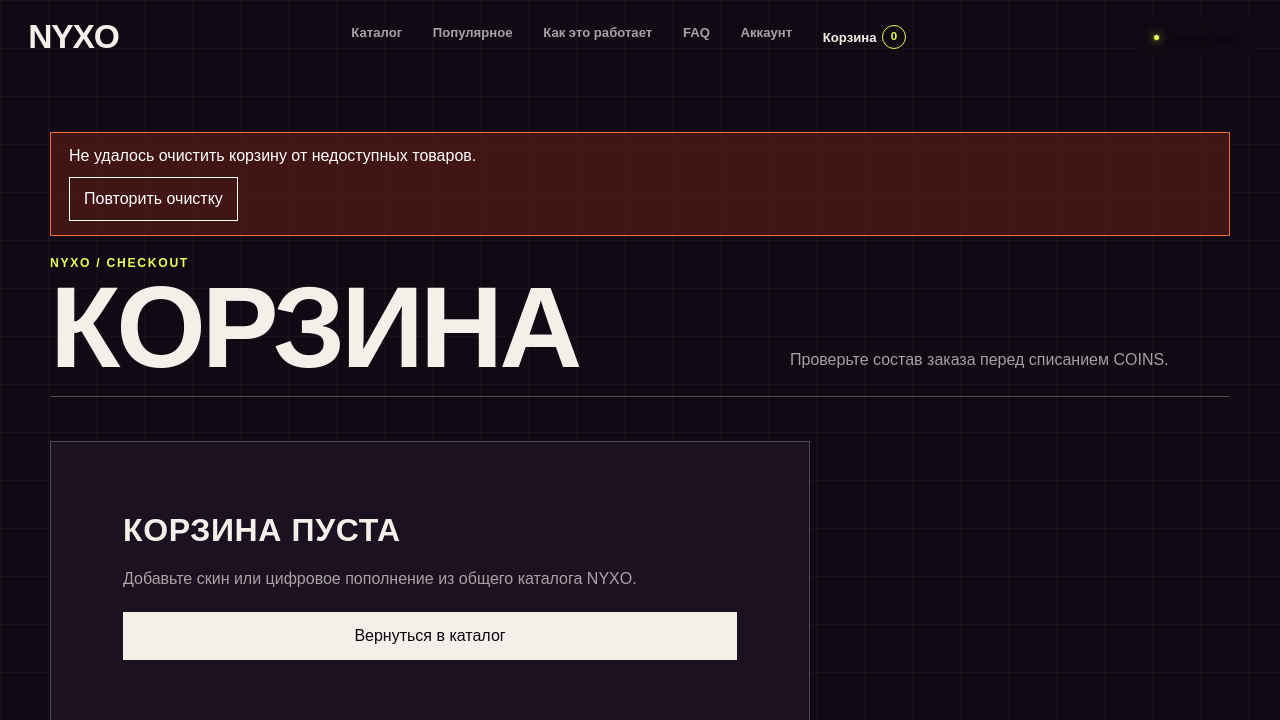
Test: CartPage › exposes a retry when unknown-id cleanup cannot be persisted
Expected: the message shows "Не удалось очистить корзину", [69,147,476,164]
Click the button "Повторить очистку": (153, 199) [69,177,238,221]
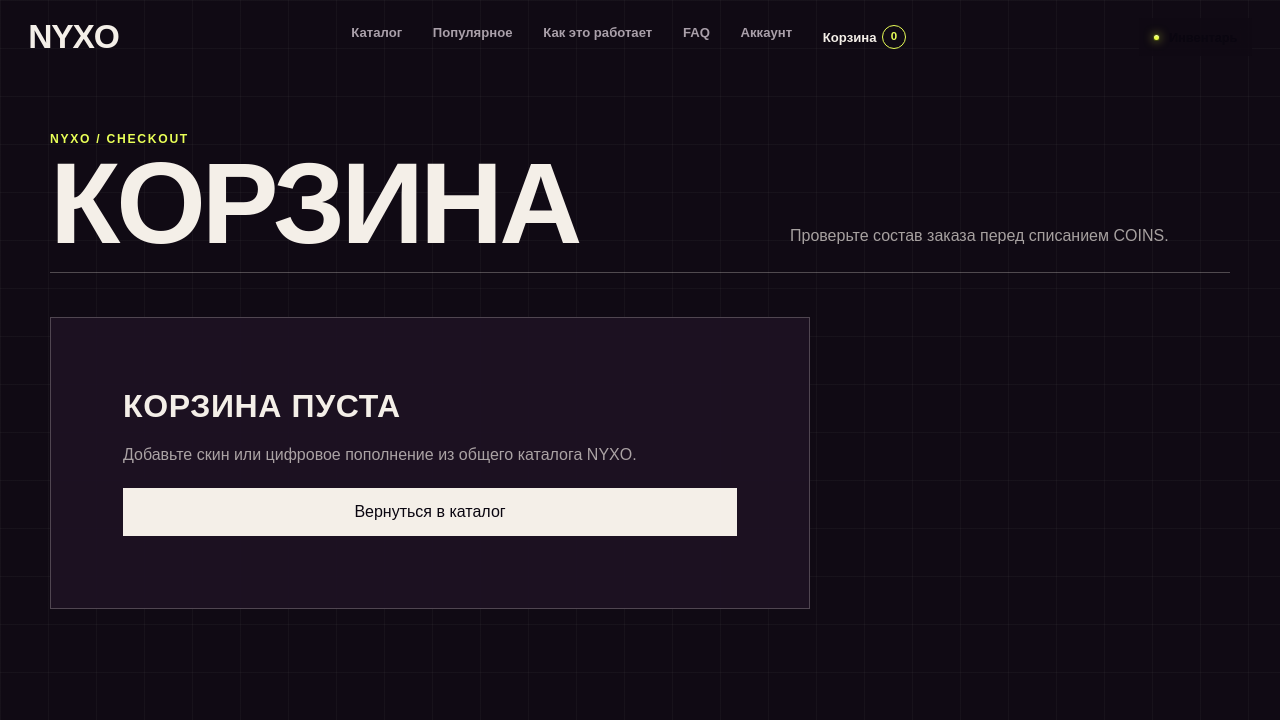
Now the button "Повторить очистку" is gone
